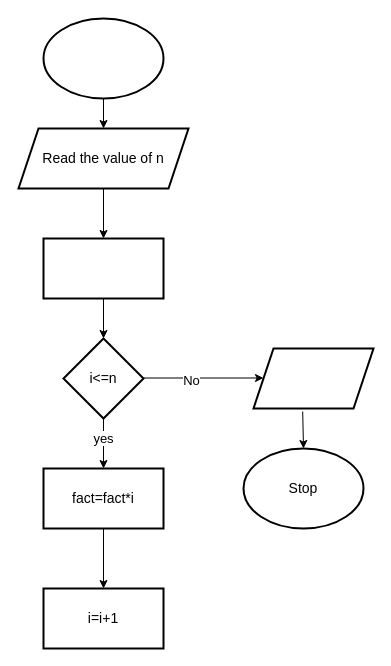
The diagram is 391 pixels wide and 666 high, and some of its shapes have lost their labels. Here are the shapes that lost their labels. From the top down, the centre of each, then its label:
At (103,58): "Start".
At (103,268): "i=1 fact=1".
At (313,378): "Print fact".
